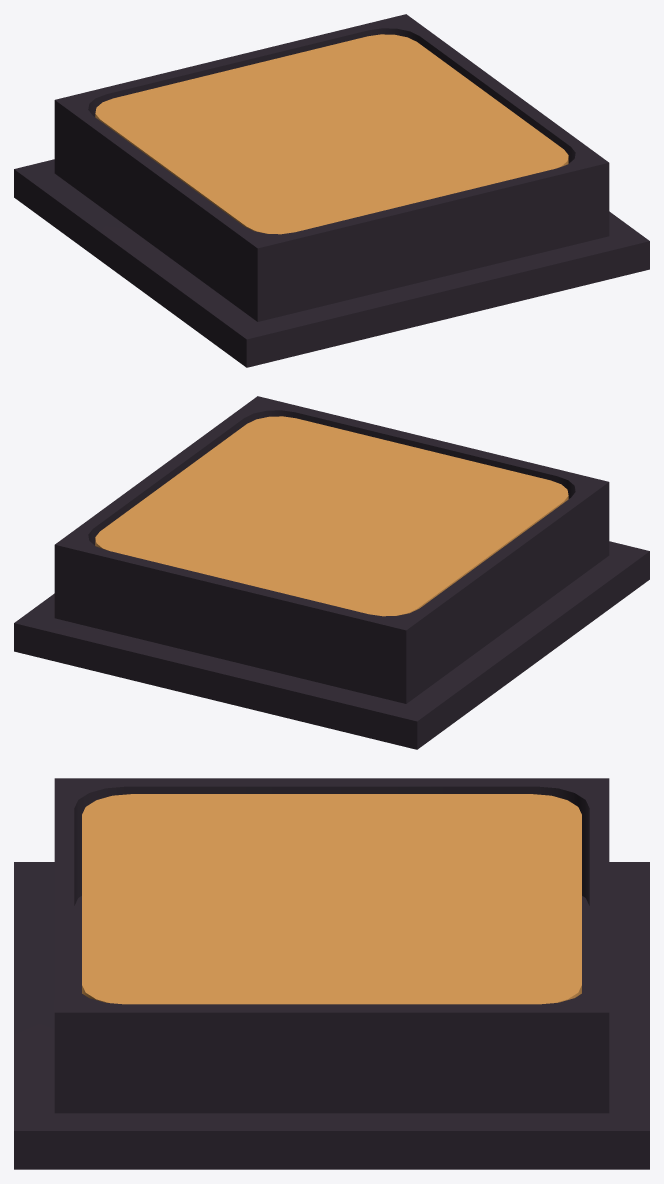
The model's file is botãoDesativar.fbx.
3 views of the same model, one above another, from view 1: azimuth 30°, elevation 25°; view 2: azimuth 150°, elevation 25°; view 3: azimuth 270°, elevation 25° (orthographic). The views are drawn at different scales.
Parts seen in each view (by area): view 1: Casing, Botão; view 2: Casing, Botão; view 3: Casing, Botão.
Boxes of the visible parts, bbox=[...] form: Casing: bbox=[14, 14, 649, 367]; Botão: bbox=[95, 34, 568, 234]; Casing: bbox=[14, 396, 649, 749]; Botão: bbox=[95, 416, 568, 616]; Casing: bbox=[14, 778, 649, 1169]; Botão: bbox=[82, 794, 581, 1004].
Size of the model in its own units: 229 by 60.34 by 229.
